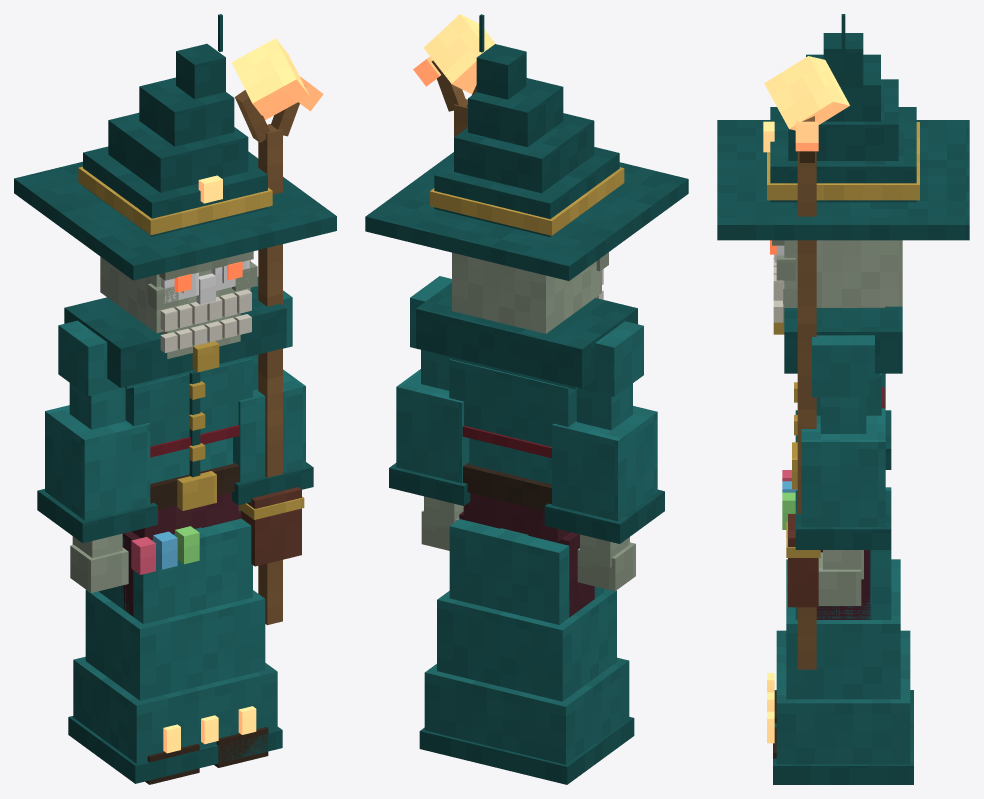
The model's file is undead_mage_v3.glb.
3 renders of one model, left to right at view 1: azimuth 30°, elevation 25°; view 2: azimuth 150°, elevation 25°; view 3: azimuth 270°, elevation 25°, orthographic. The views are drawn at different scales.
Visible parts, largest first — view 1: Head, Root, Torso, ArmR, HandL, ArmL, LegL, LegR; view 2: Head, Root, Torso, ArmR, ArmL, HandL, LegR; view 3: Head, Root, ArmL, HandL, Torso, LegL, ArmR.
Part boxes in pixels (left/top/right/bottom): Head: left=14, top=14, right=336, bottom=358; Root: left=68, top=518, right=282, bottom=783; Torso: left=64, top=286, right=304, bottom=574; ArmR: left=37, top=320, right=157, bottom=592; HandL: left=231, top=38, right=323, bottom=625; ArmL: left=232, top=277, right=313, bottom=511; LegL: left=202, top=511, right=268, bottom=767; LegR: left=116, top=531, right=199, bottom=784; Head: left=365, top=14, right=688, bottom=333; Root: left=419, top=519, right=634, bottom=784; Torso: left=416, top=282, right=637, bottom=541; ArmR: left=544, top=321, right=664, bottom=591; ArmL: left=389, top=276, right=470, bottom=550; HandL: left=413, top=14, right=495, bottom=137; LegR: left=528, top=532, right=594, bottom=617; Head: left=717, top=14, right=969, bottom=330; Root: left=767, top=487, right=913, bottom=784; ArmL: left=795, top=335, right=891, bottom=605; HandL: left=764, top=56, right=849, bottom=669; Torso: left=773, top=306, right=902, bottom=607; LegL: left=773, top=550, right=870, bottom=758; ArmR: left=795, top=373, right=891, bottom=469.
Size of the model in its own units: 0.7694 by 2.2 by 0.66.
35 materials, 35 textured.
